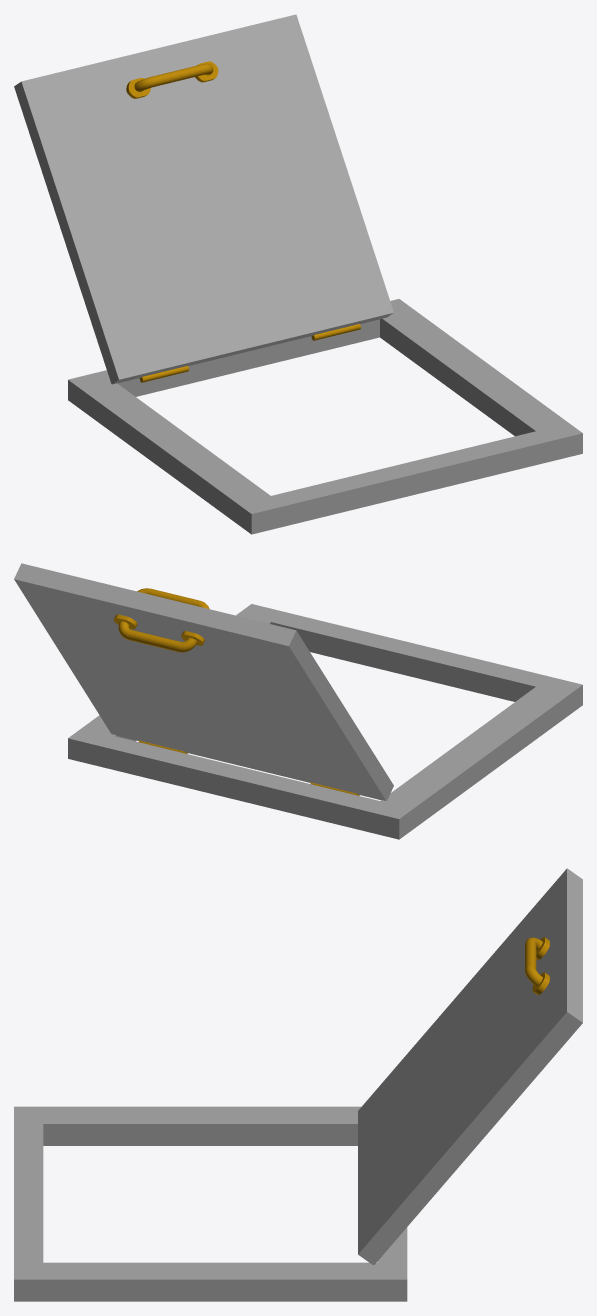
Rendered from TrapDoor.fbx.
The picture shows the model from 3 angles, top to bottom: view 1: azimuth 30°, elevation 25°; view 2: azimuth 150°, elevation 25°; view 3: azimuth 270°, elevation 25°; orthographic projection. The views are drawn at different scales.
Parts seen in each view (by area): view 1: polySurface4; view 2: polySurface4; view 3: polySurface4.
Part boxes in pixels (<box>): polySurface4: <box>14,14,582,534</box>; polySurface4: <box>14,563,582,839</box>; polySurface4: <box>14,868,582,1301</box>.
Size of the model in its own units: 35.89 by 26.61 by 49.86.
